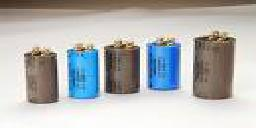Electrolytic Capacitor: (192, 30, 244, 102), (22, 41, 64, 108), (101, 34, 142, 100), (146, 35, 182, 93), (67, 39, 98, 106)
